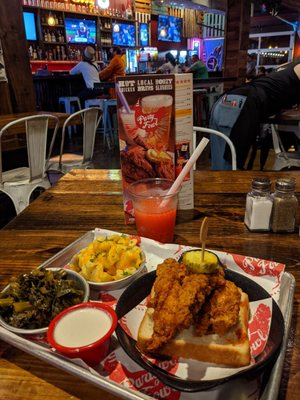pizza: (47, 301, 117, 366), (126, 178, 181, 244)
sushi: (0, 266, 90, 336), (64, 228, 148, 292), (47, 301, 117, 365)
